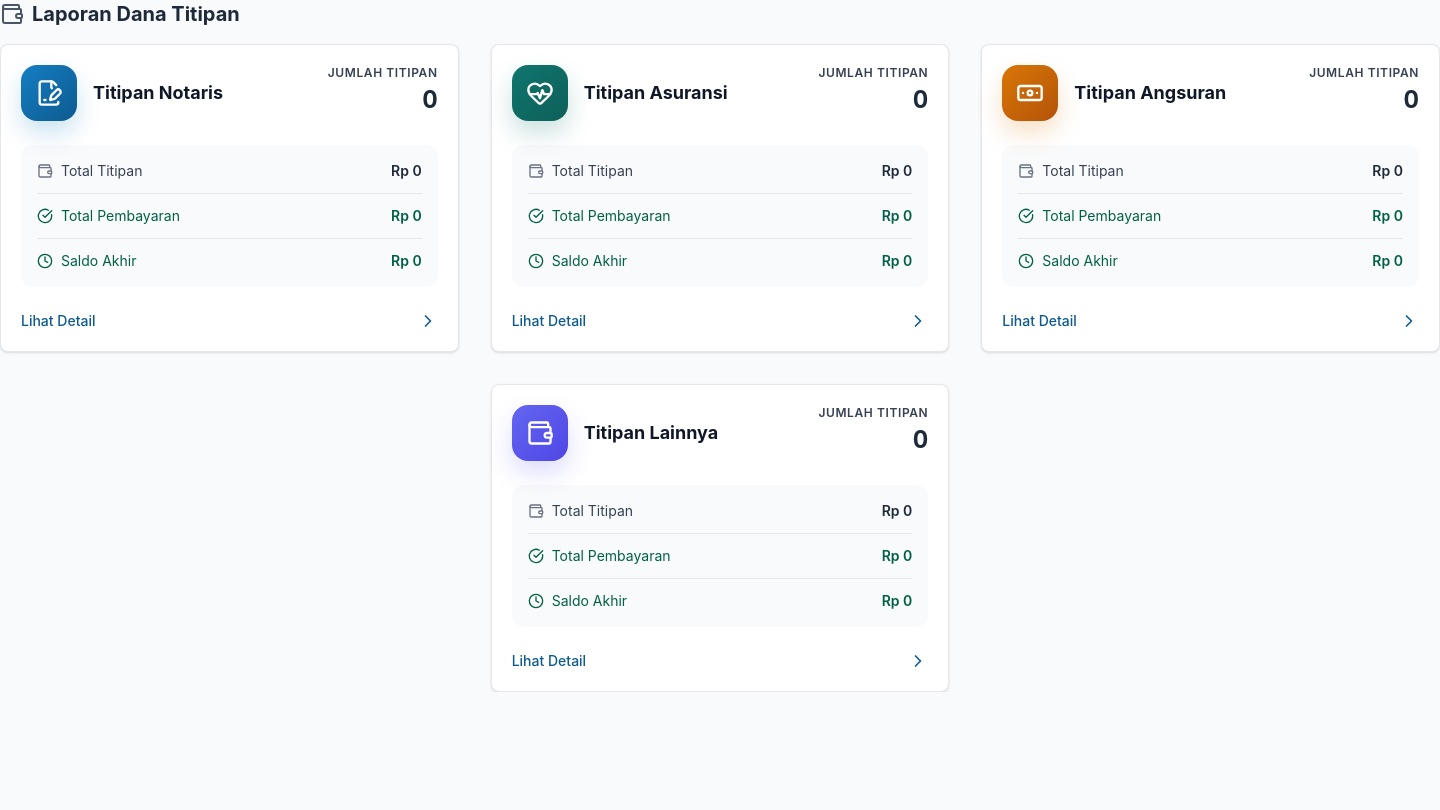
LaporanTitipanSection › tetap merender tabel, header, dan pagination ketika record tersedia
Click the button titled "Lihat Titipan Notaris".
click(229, 198)  # box [0,44,459,352]
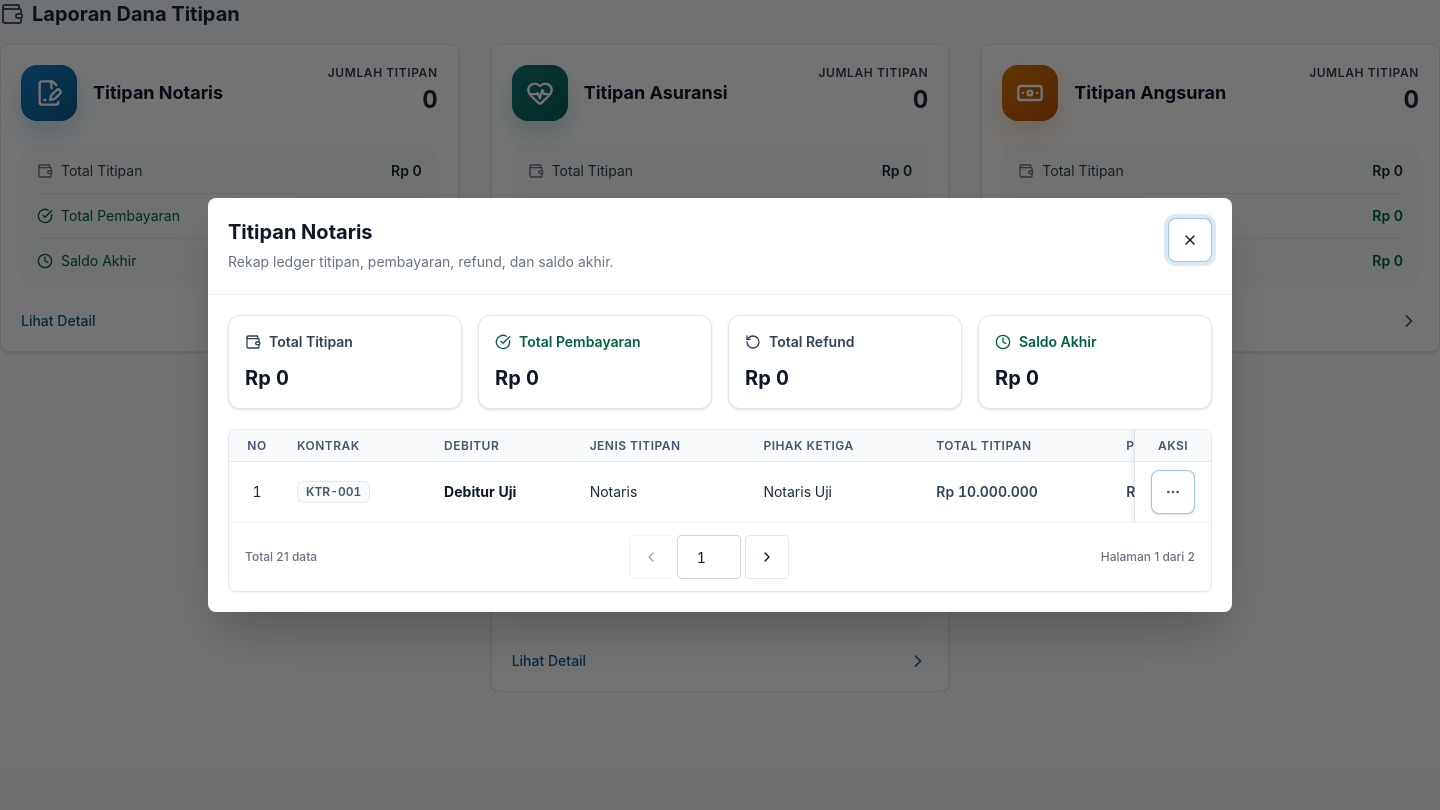
Result: the table is shown at [229,430,1211,522]
Result: the column heading "Jenis Titipan" is shown at [578,430,751,462]
Result: the element named "Tabel data" is shown at [229,430,1211,591]
